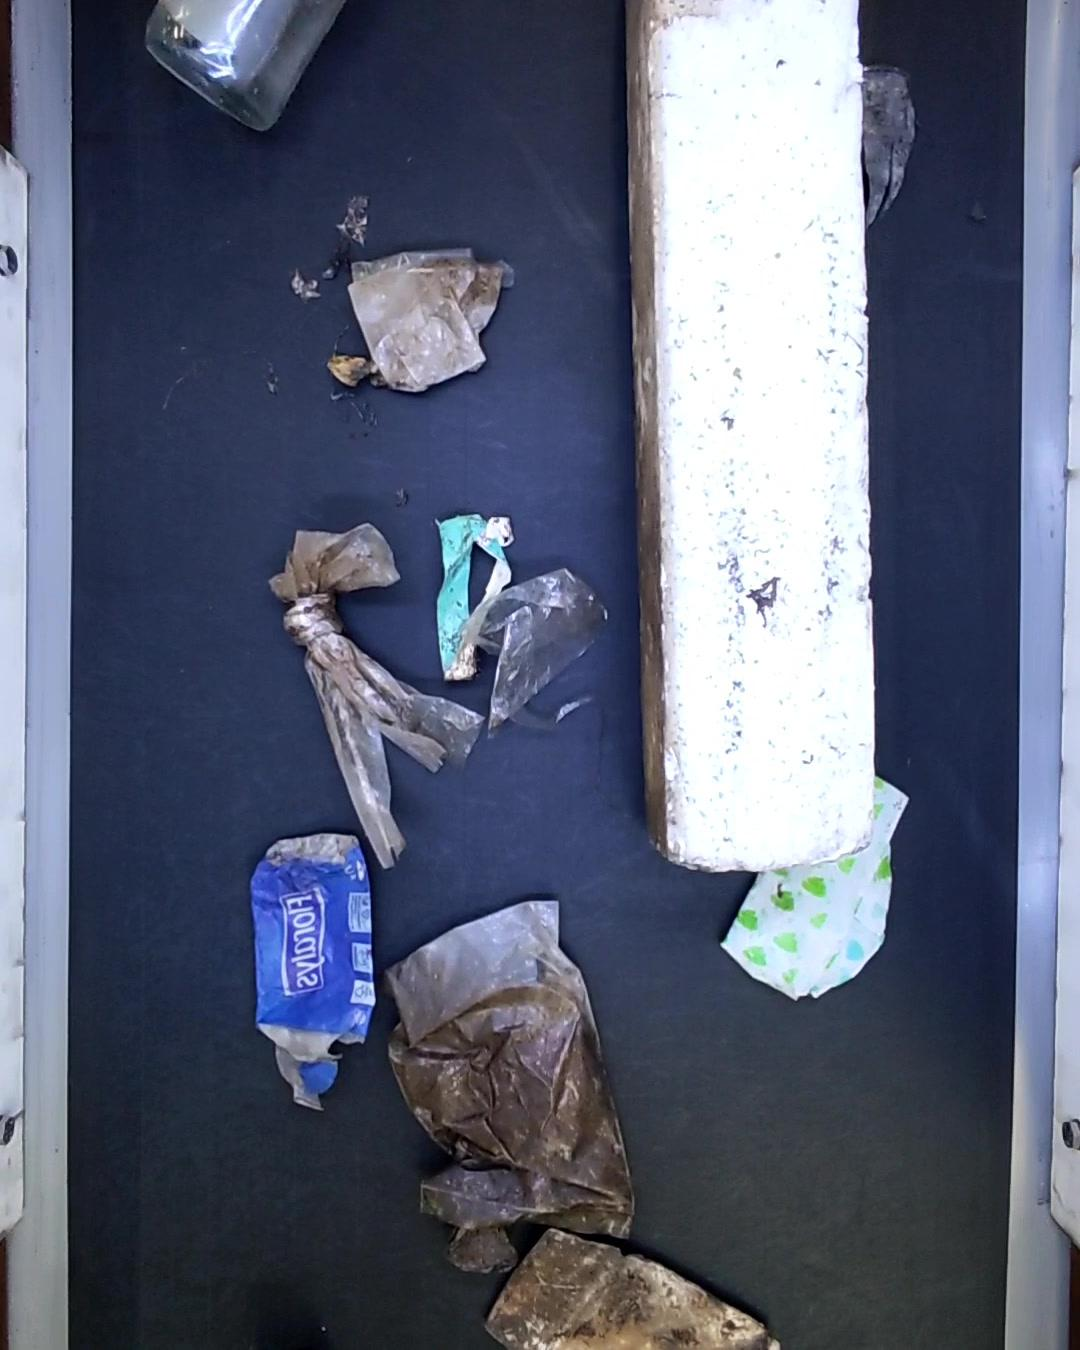Plastic folies of stukken daarvan 2.5- 50 cm: (380, 892, 640, 1275), (263, 523, 472, 866), (349, 248, 517, 393), (477, 573, 603, 739)
